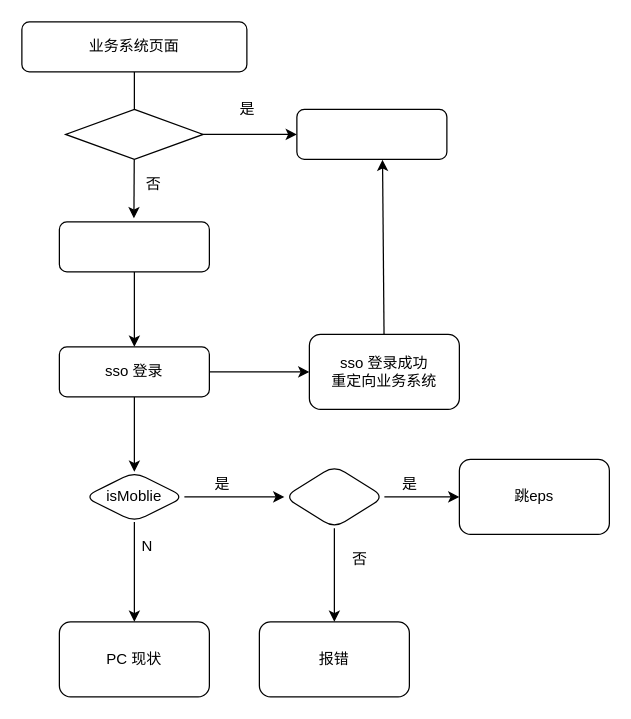
This 631x719 diagram has some shape labels left out. The shapes that lost their labels are listed below. From the top down, each one's centre as x and y in pixels, then its label:
point 133,133: 是否登录
point 371,133: 业务系统正常访问
point 133,246: 跳转 sso 登录地址 并带上当前所属系统
point 333,496: 是否包含eps
